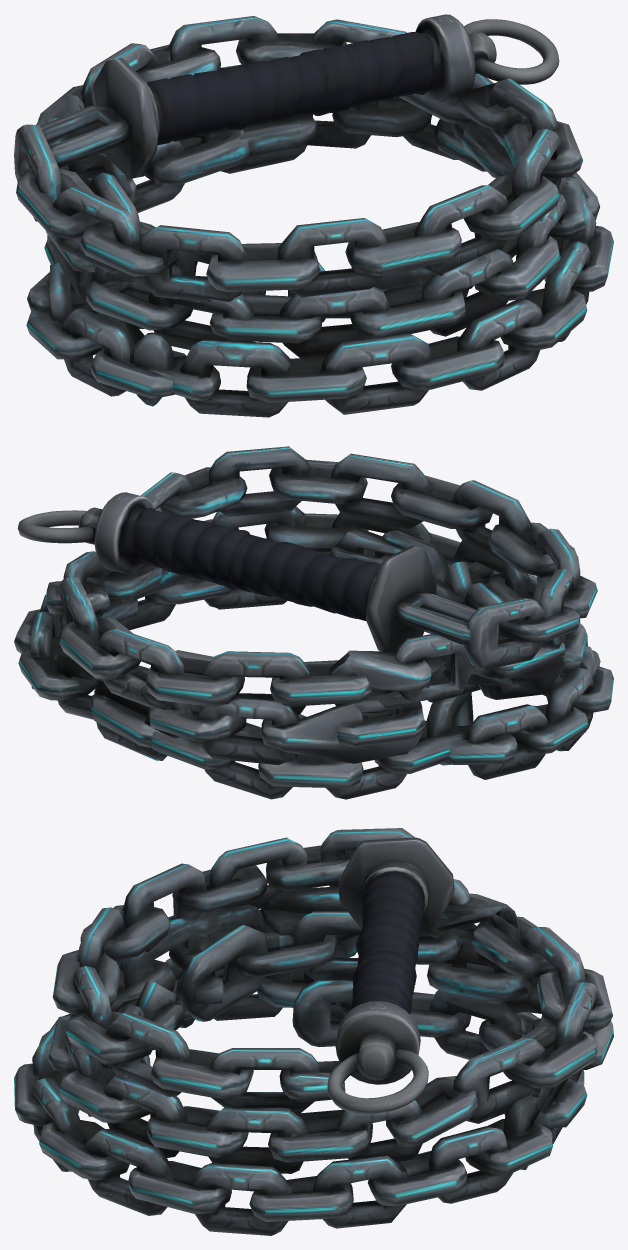
The model's file is selected.fbx.
The picture shows the model from 3 angles, top to bottom: view 1: azimuth 30°, elevation 25°; view 2: azimuth 150°, elevation 25°; view 3: azimuth 270°, elevation 25°; orthographic projection. The views are drawn at different scales.
Parts seen in each view (by area): view 1: tripo_node_d3ab6193-afea-4fd4-8303-f7c3e0847ae6; view 2: tripo_node_d3ab6193-afea-4fd4-8303-f7c3e0847ae6; view 3: tripo_node_d3ab6193-afea-4fd4-8303-f7c3e0847ae6.
Part boxes in pixels (x1=…): tripo_node_d3ab6193-afea-4fd4-8303-f7c3e0847ae6: x1=14, y1=14, x2=613, y2=417; tripo_node_d3ab6193-afea-4fd4-8303-f7c3e0847ae6: x1=14, y1=446, x2=613, y2=799; tripo_node_d3ab6193-afea-4fd4-8303-f7c3e0847ae6: x1=14, y1=828, x2=613, y2=1235.
Size of the model in its own units: 0.9995 by 0.4048 by 0.9683.
1 material, 1 textured.
